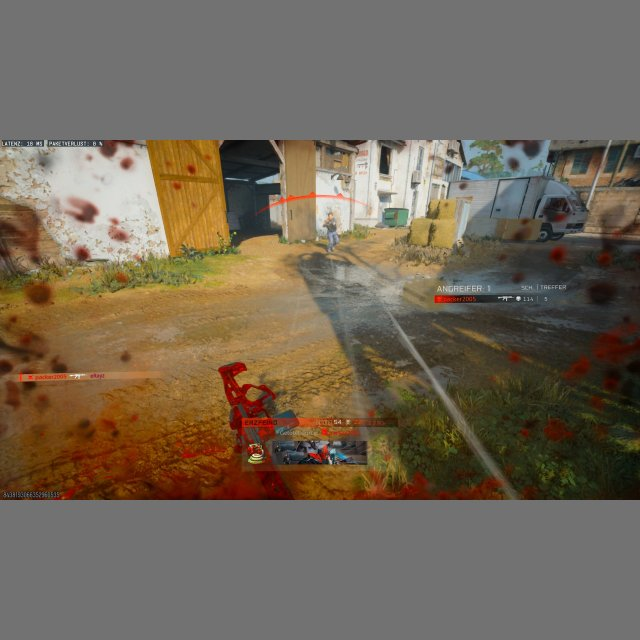head: (326, 209, 333, 217)
player: (218, 361, 308, 464), (323, 210, 339, 253)
